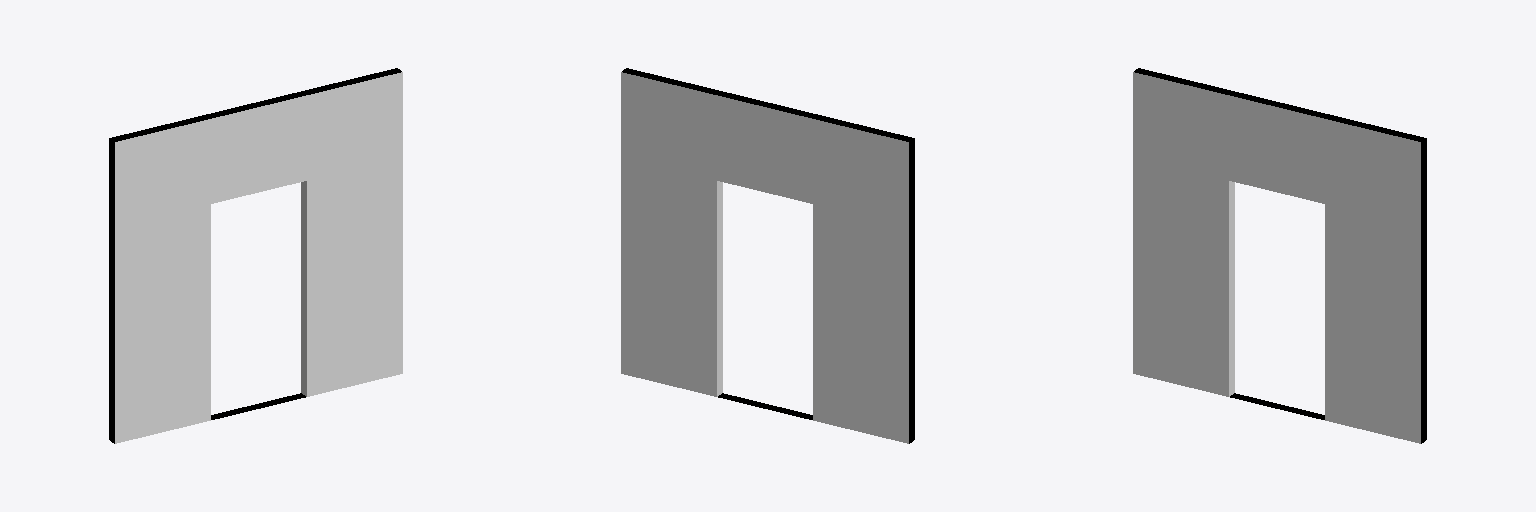
Rendered from WallDoor_White.obj.
3 renders of one model, left to right at view 1: azimuth 30°, elevation 25°; view 2: azimuth 150°, elevation 25°; view 3: azimuth 330°, elevation 25°, orthographic.
Parts seen in each view (by area): view 1: WallDoor_White; view 2: WallDoor_White; view 3: WallDoor_White.
Boxes of the visible parts, x1,y1,x2,y2 form: WallDoor_White: [109, 68, 402, 443]; WallDoor_White: [621, 68, 914, 443]; WallDoor_White: [1133, 68, 1426, 443].
Bounding box in the file's own units: 3 × 3 × 0.1.